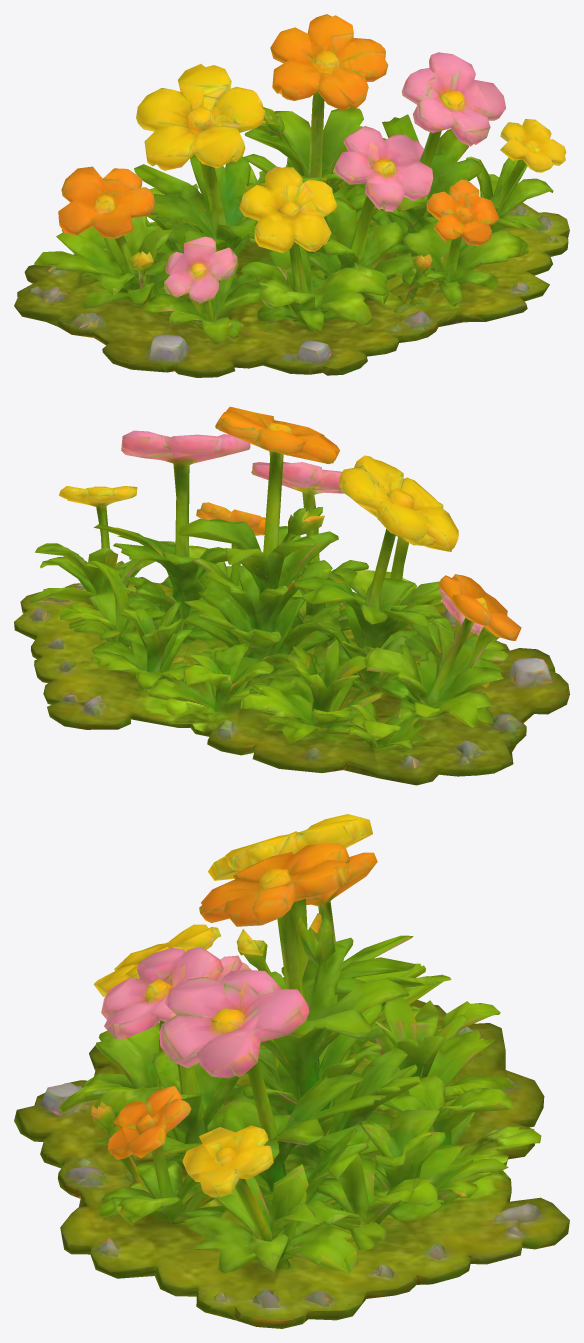
The model's file is tree-petal-parade.glb.
3 views of the same model, one above another, from view 1: azimuth 30°, elevation 25°; view 2: azimuth 150°, elevation 25°; view 3: azimuth 270°, elevation 25° (orthographic). The views are drawn at different scales.
Visible parts, largest first — view 1: Mesh1.0; view 2: Mesh1.0; view 3: Mesh1.0.
Part boxes in pixels (bbox=[...]): Mesh1.0: bbox=[14, 14, 569, 377]; Mesh1.0: bbox=[14, 406, 569, 785]; Mesh1.0: bbox=[14, 814, 569, 1328].
Bounding box in the file's own units: 1.9 × 0.8771 × 1.37.
1 material, 1 textured.
